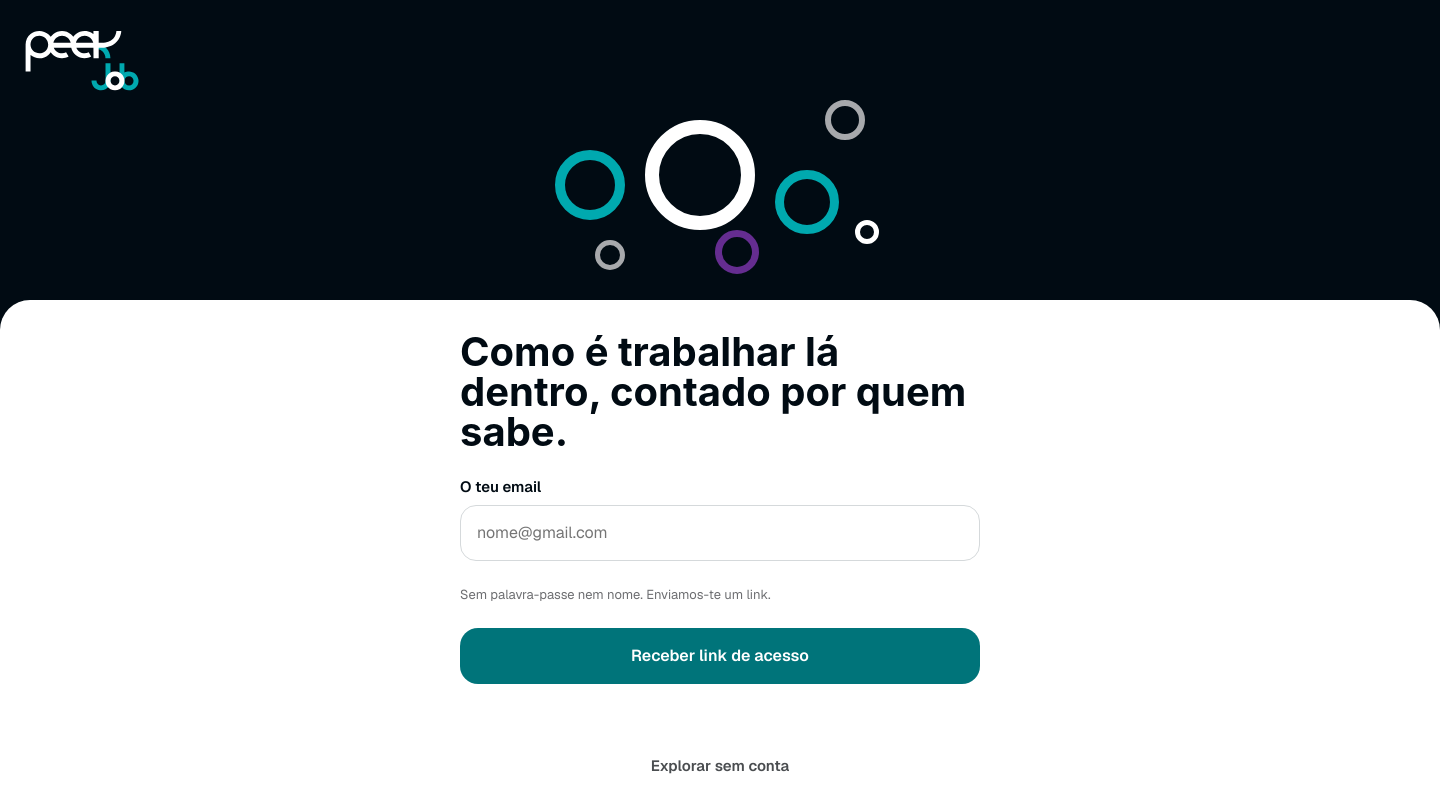
Entrar, modo API (mobile) › erro do servidor aparece no campo
The image size is (1440, 810).
Type "ana@gmail.com" into the field labelled "O teu email". click: (720, 532)
box: [460,504,980,560]
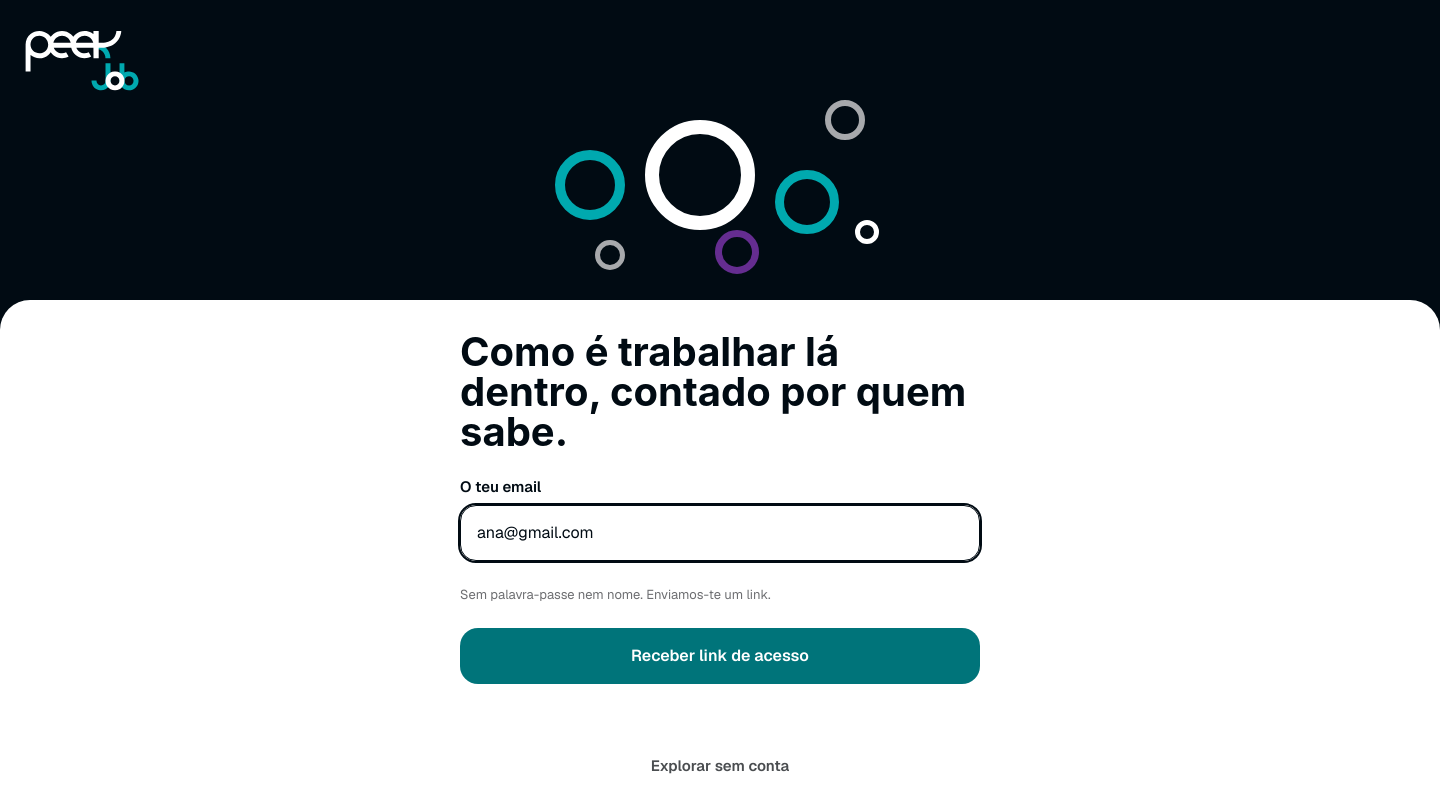
Click the button "Receber link de acesso". click: (720, 656)
box: [460,628,980,684]
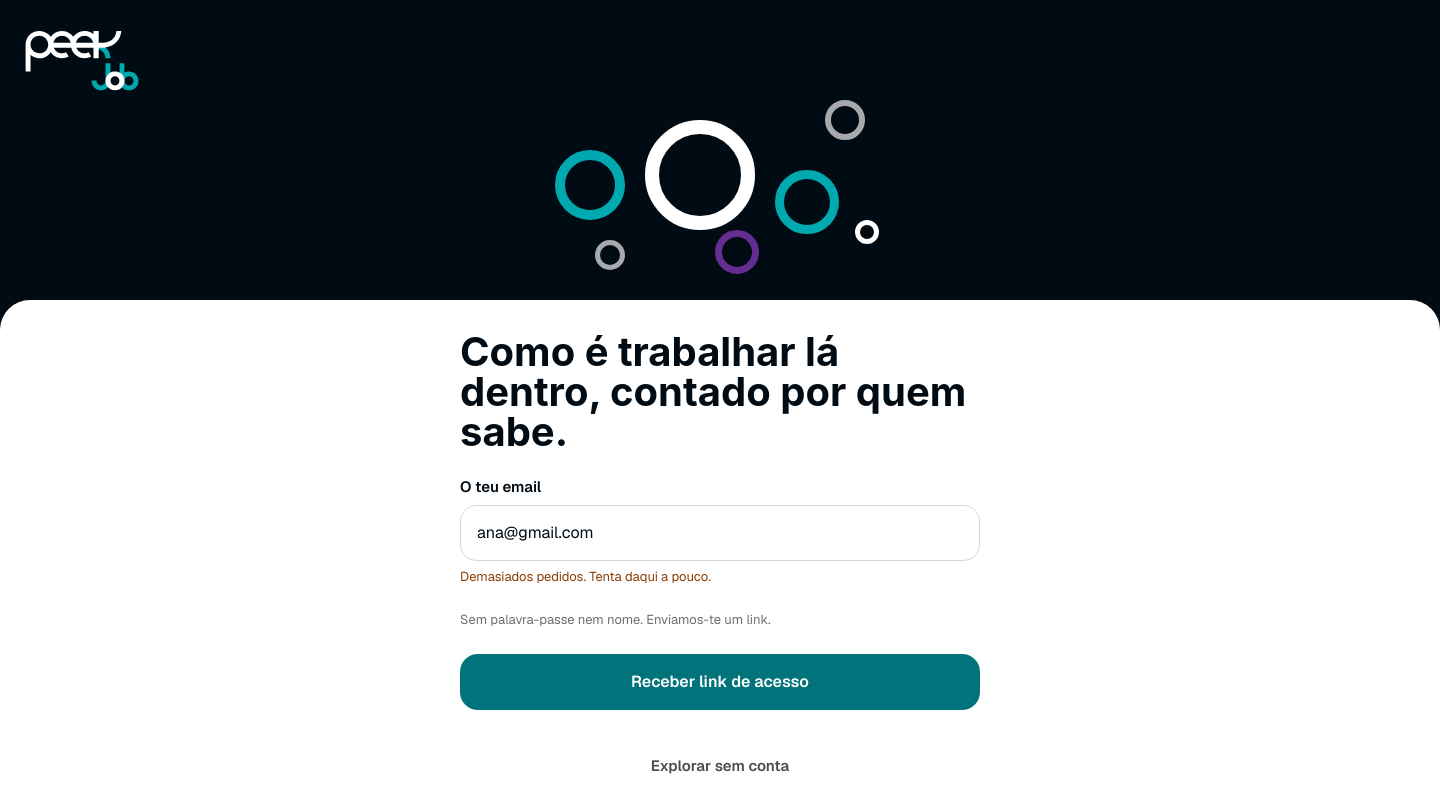
expect the message reads "Demasiados pedidos. Tenta daqui a pouco.": met, box [460,568,711,584]
